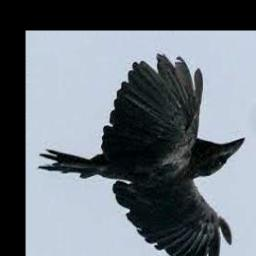Crow: (37, 53, 246, 256)
